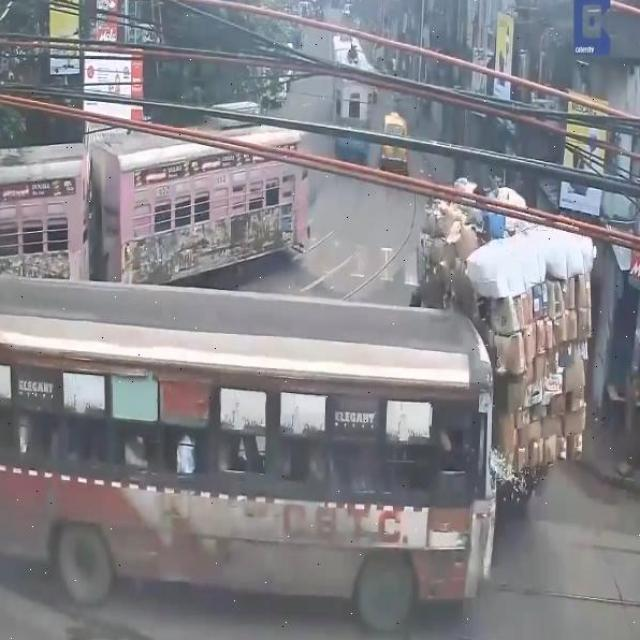accident: (396, 160, 608, 632)
